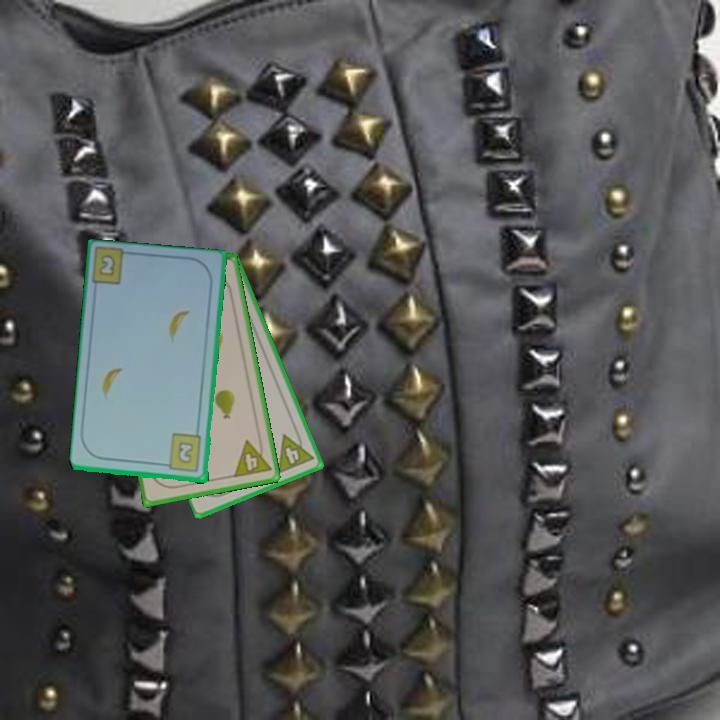2b: (160, 431, 205, 475), (98, 254, 117, 277)
4p: (274, 426, 317, 476), (230, 434, 274, 480)
